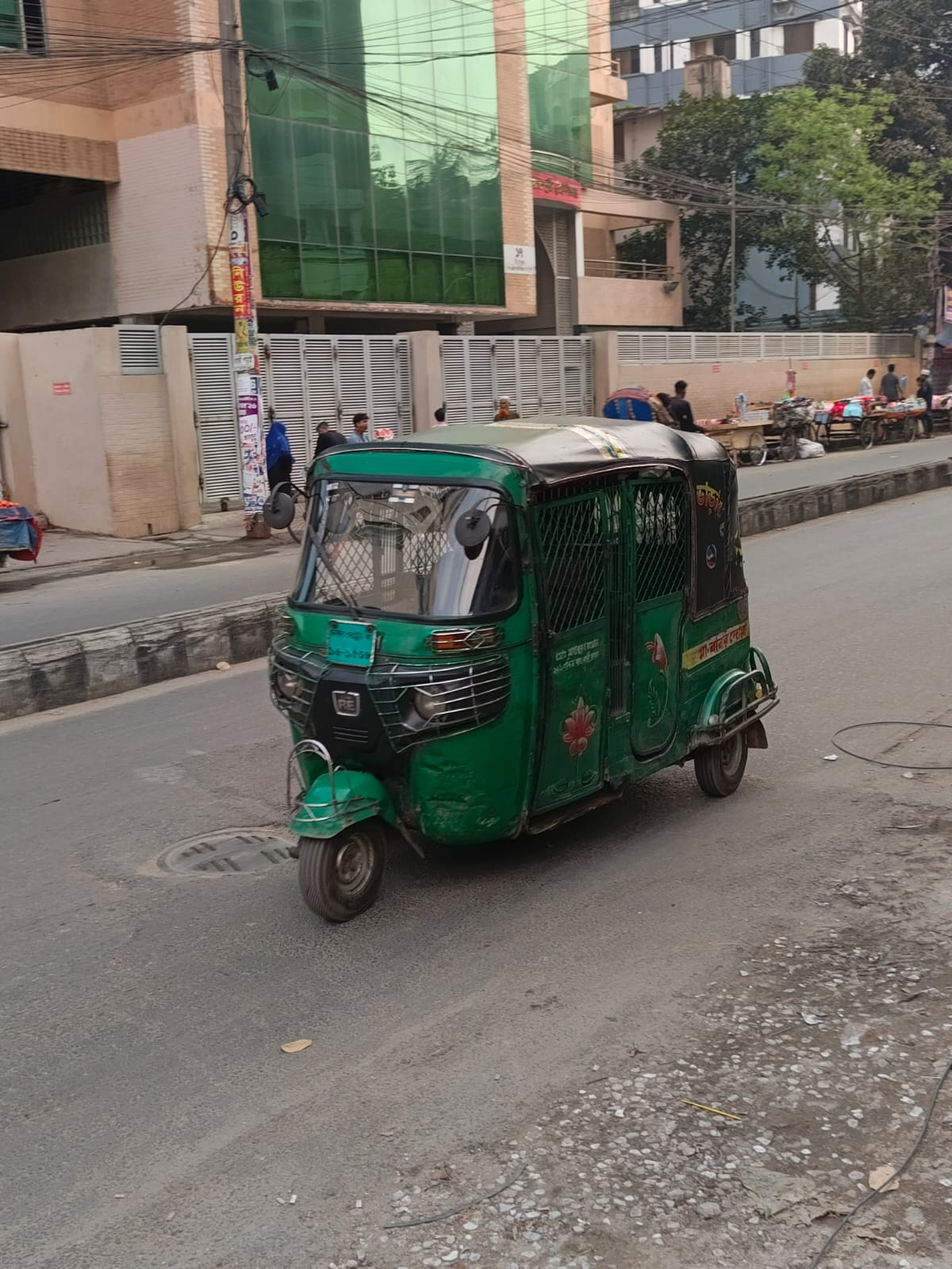cng: (270, 382, 788, 927)
